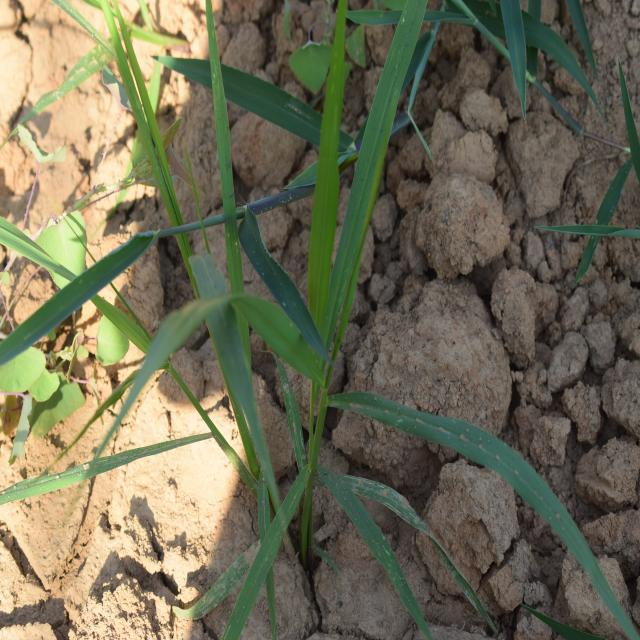green_foxtail: (140, 63, 482, 576)
